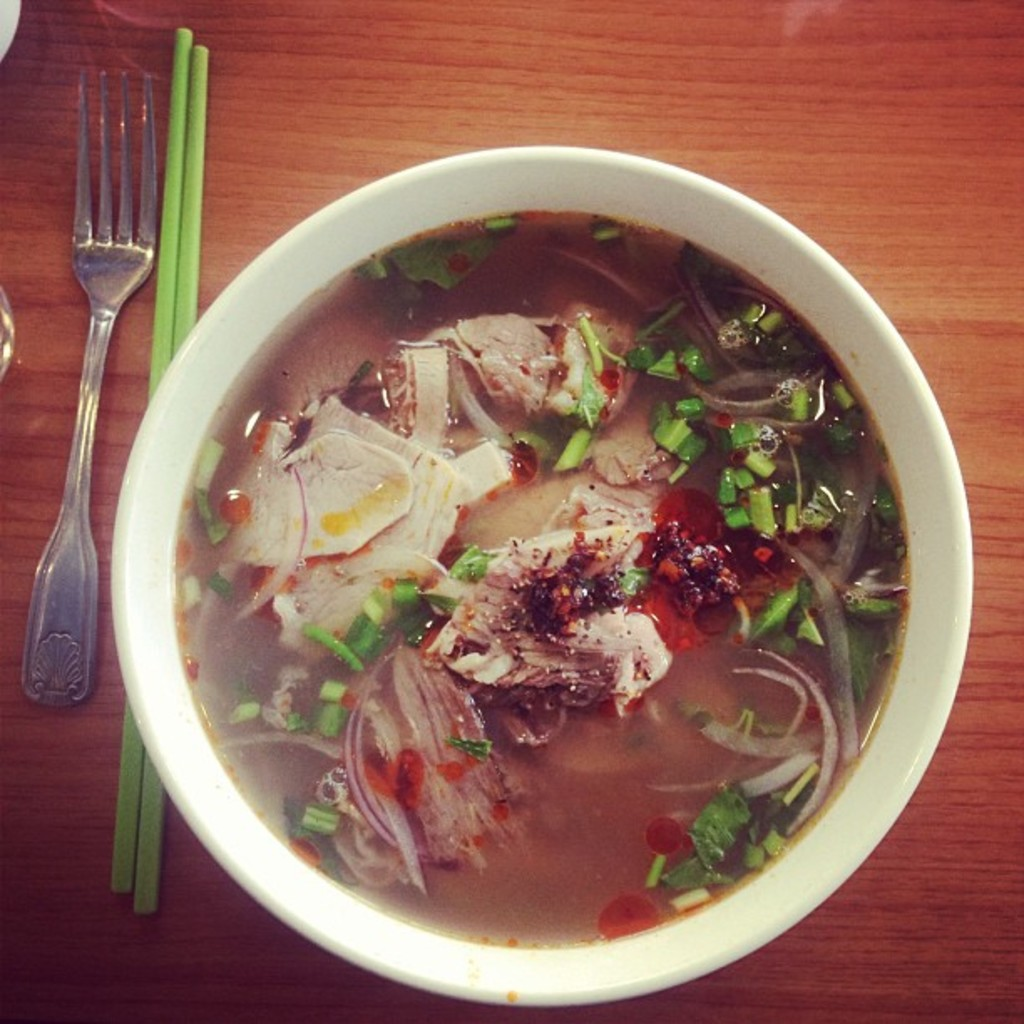fork: (20, 69, 159, 707)
